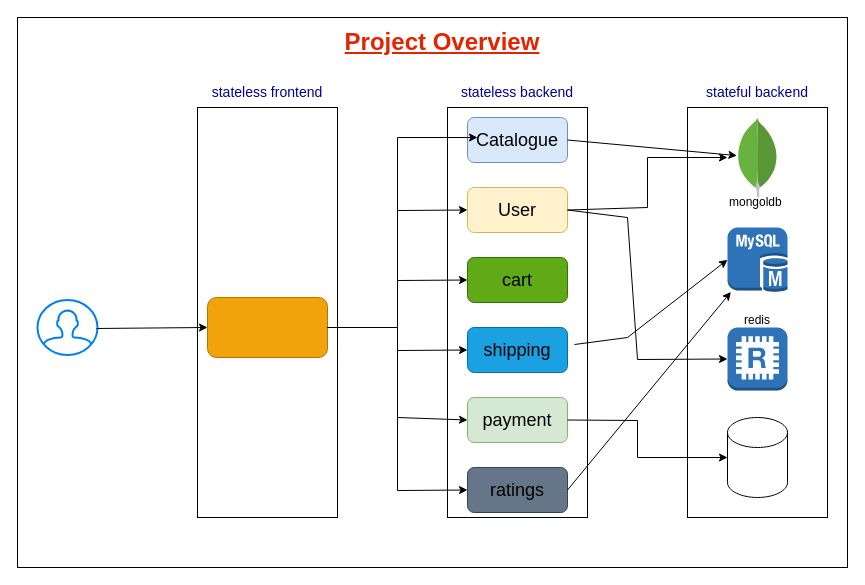
The diagram is 865 pixels wide and 585 high, and some of its shapes have lost their labels. The centre of each missing label's shape, as x and y in pixels:
"rabbitmq" belongs at point 757,457.
"web" belongs at point 267,327.
